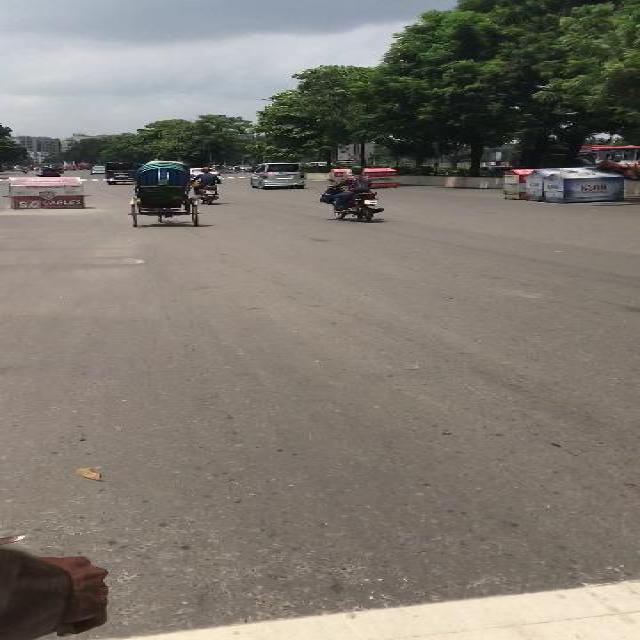bike: (325, 167, 385, 224), (191, 176, 220, 206)
vehicle: (132, 163, 198, 229), (250, 162, 307, 191), (105, 162, 132, 185), (62, 161, 76, 171), (235, 165, 251, 173), (90, 167, 104, 176), (78, 162, 91, 170)
